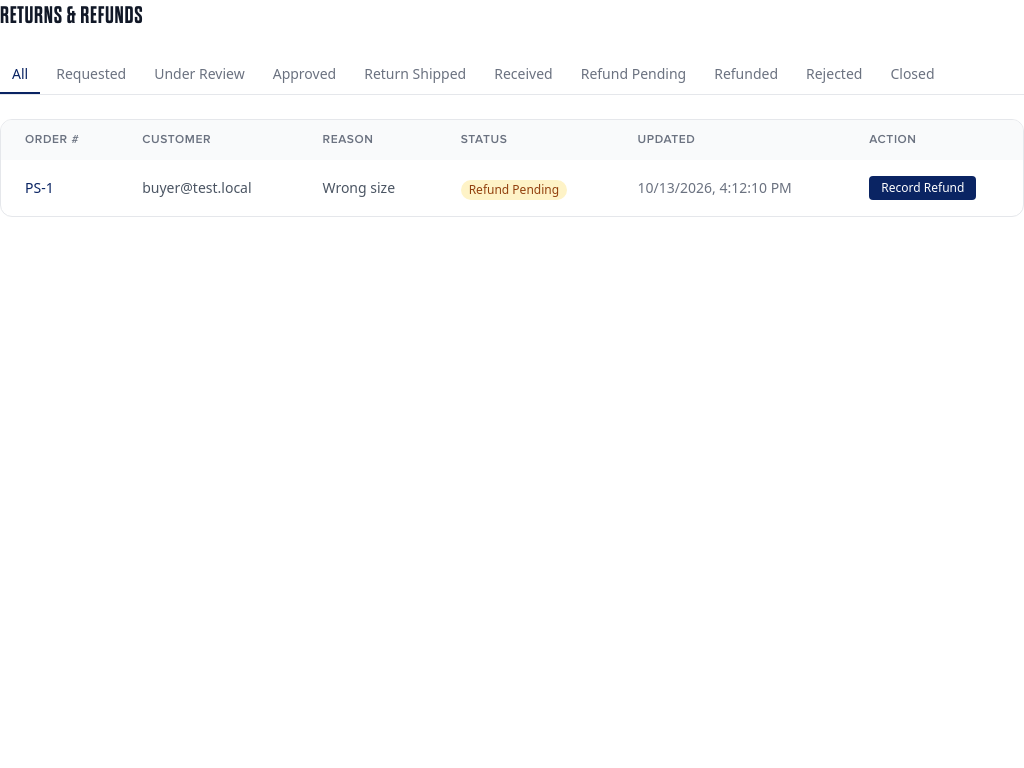
AdminReturns — recording requirements › displays a backend ceiling error clearly
Click the button "Record Refund" at {"x": 923, "y": 188}, box x1=869 y1=176 x2=976 y2=200
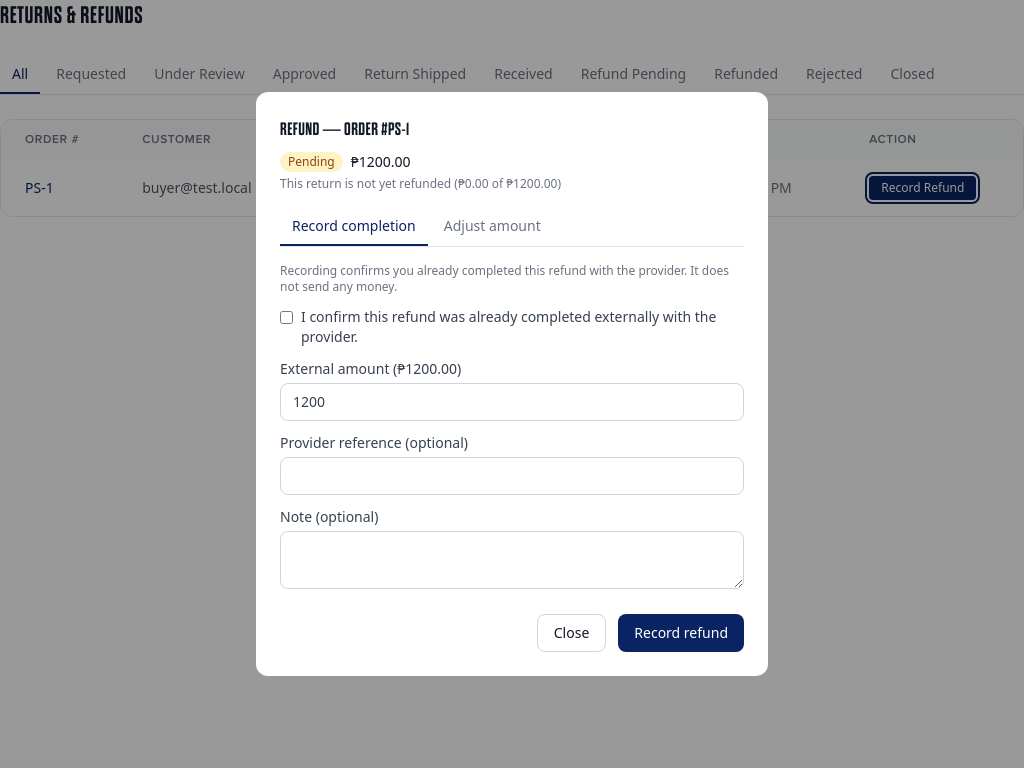
Now the heading "Refund — Order #PS-1" is shown, box x1=280 y1=119 x2=410 y2=140
Click the checkbox labelled "I confirm this refund was already completed" at {"x": 286, "y": 318}, box x1=280 y1=311 x2=293 y2=324
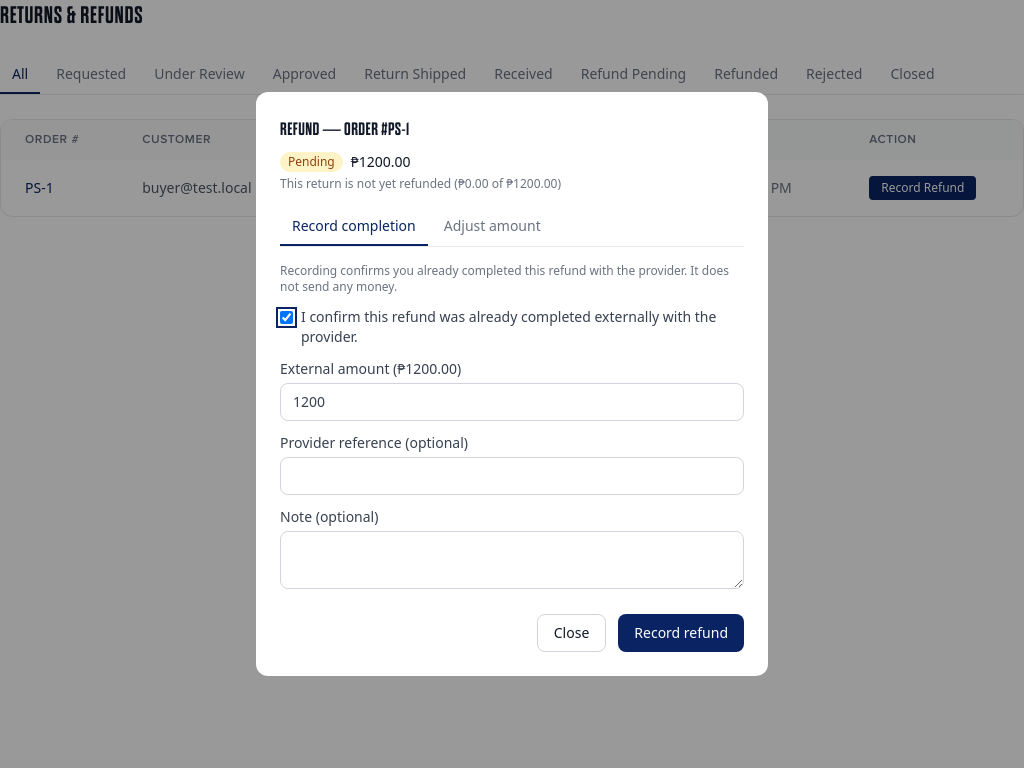
Click the button "Record refund" at {"x": 681, "y": 633}, box x1=618 y1=614 x2=744 y2=652
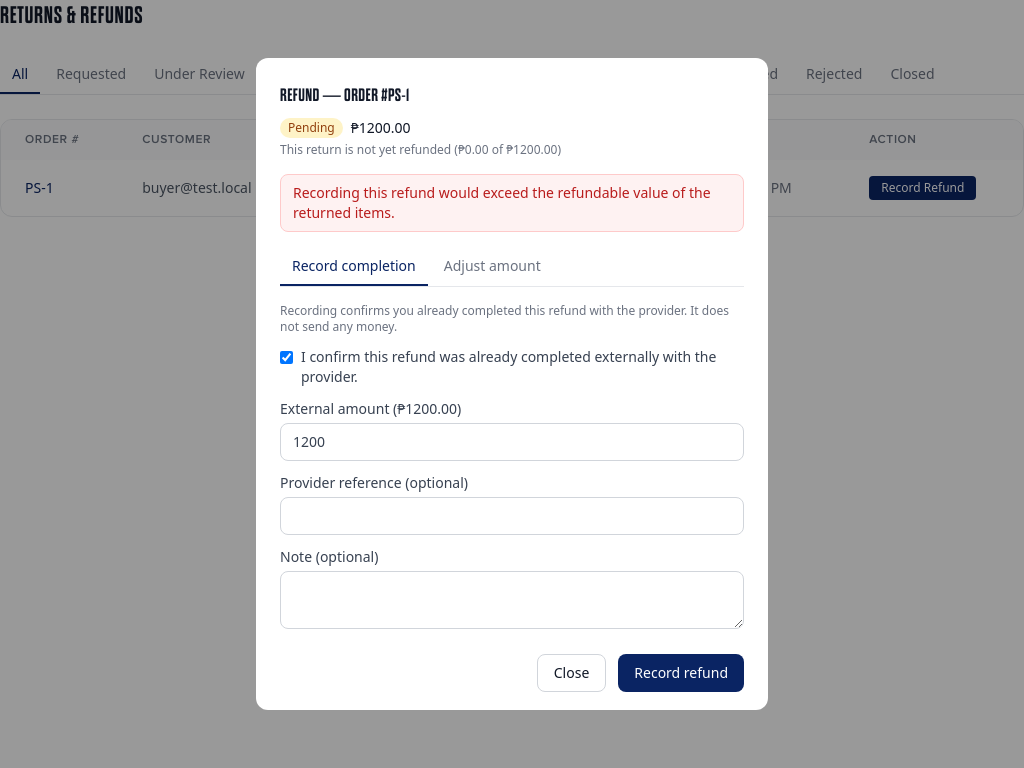
Now the message reads "Recording this refund would exceed the refundable value of the returned items.", box x1=293 y1=183 x2=711 y2=222
